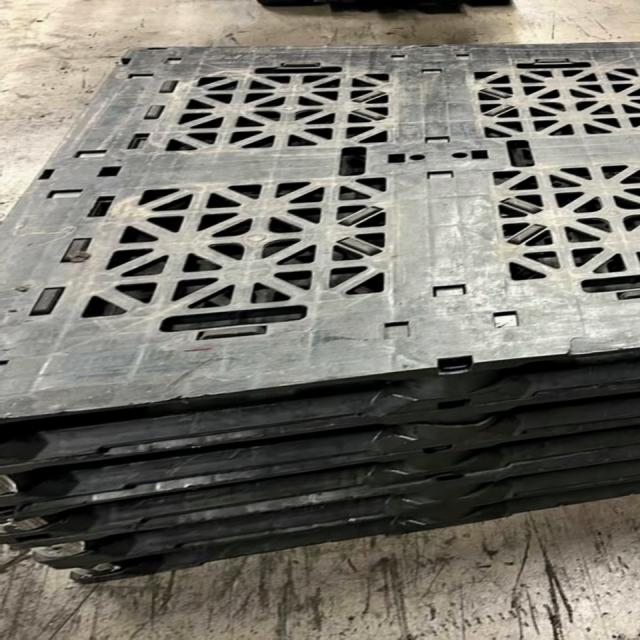igps: (0, 30, 639, 598)
